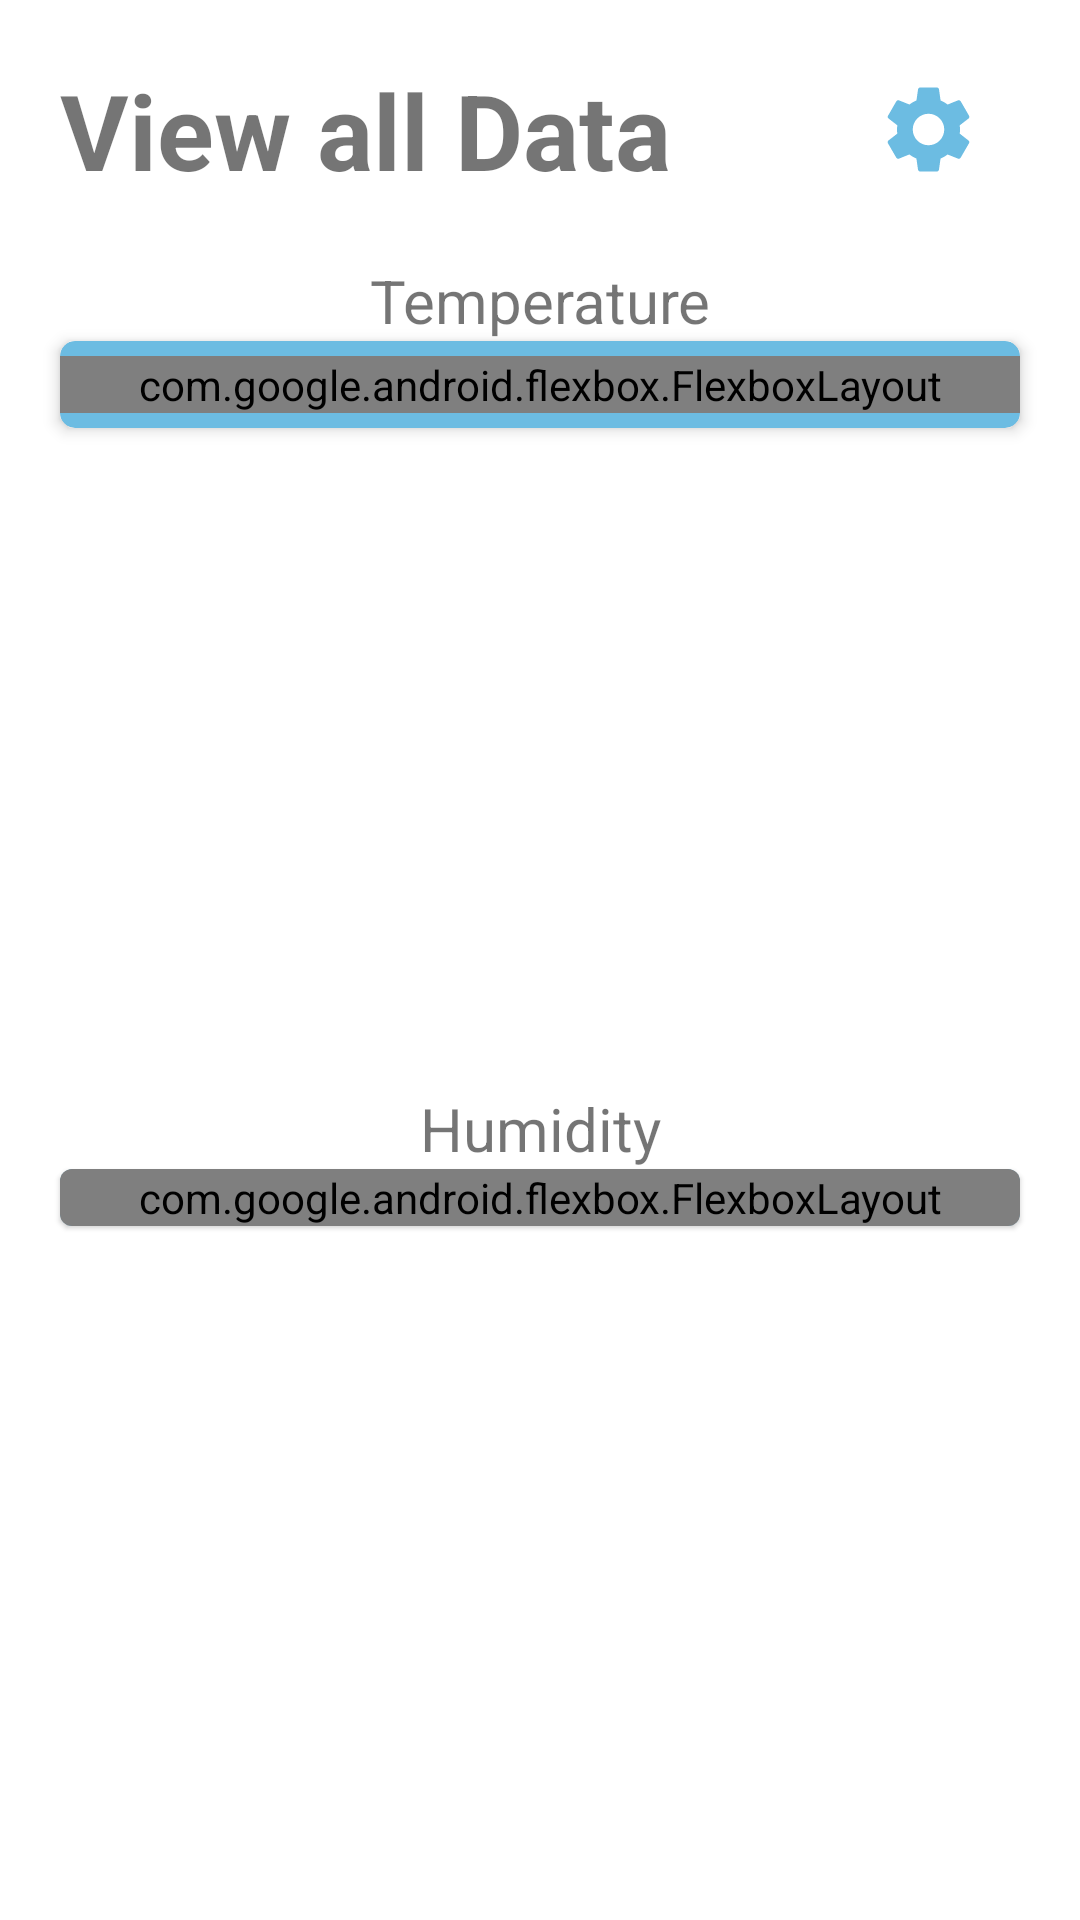

Named icons in this screenshot (1080×1920) and their bounding boxes, bbox=[x1, y1, x2, y2]:
settings: bbox=[887, 87, 970, 172]
